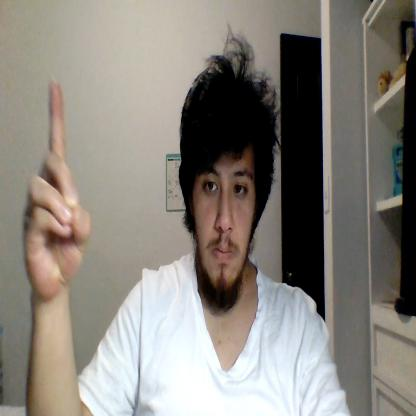D: (23, 76, 91, 292)
